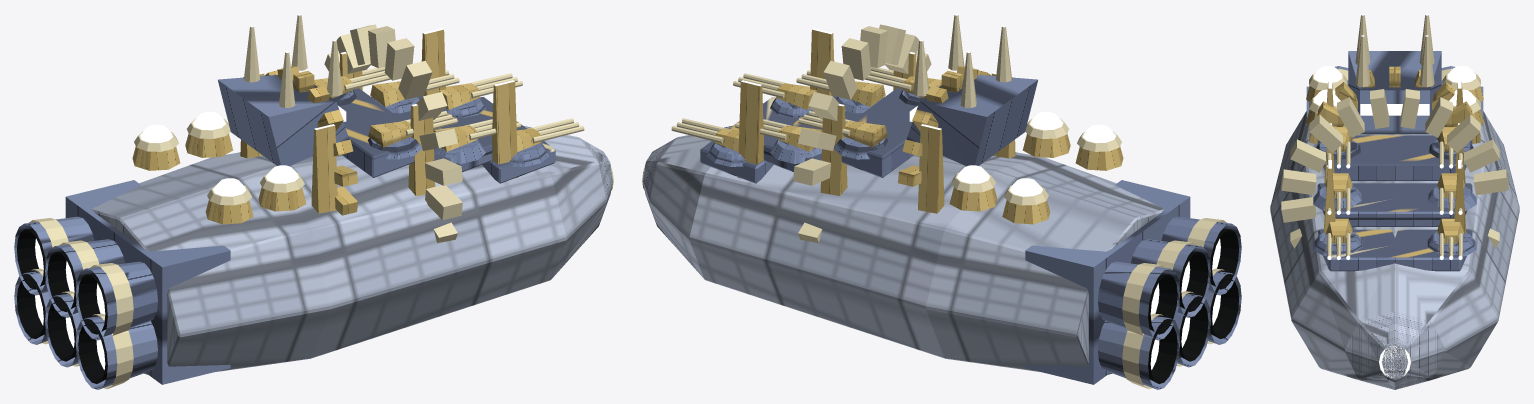
File: dreadnought.glb
3 renders of one model, left to right at view 1: azimuth 30°, elevation 25°; view 2: azimuth 150°, elevation 25°; view 3: azimuth 270°, elevation 25°, orthographic. The views are drawn at different scales.
Parts seen in each view (by area): view 1: hull_body, engine_block, sensor_tower, weapon_turrets, shield_domes; view 2: hull_body, engine_block, sensor_tower, weapon_turrets, shield_domes; view 3: hull_body, weapon_turrets, sensor_tower, shield_domes, engine_block.
Part boxes in pixels (x1,y1,x2,y2): hull_body: (92, 24, 612, 374); engine_block: (14, 180, 230, 389); sensor_tower: (218, 14, 349, 166); weapon_turrets: (314, 67, 613, 190); shield_domes: (132, 111, 306, 224); hull_body: (643, 24, 1163, 374); engine_block: (1025, 180, 1241, 389); sensor_tower: (906, 14, 1037, 166); weapon_turrets: (642, 67, 941, 190); shield_domes: (949, 111, 1123, 224); hull_body: (1270, 66, 1519, 389); weapon_turrets: (1313, 127, 1476, 377); sensor_tower: (1348, 14, 1441, 134); shield_domes: (1306, 66, 1483, 126); engine_block: (1306, 66, 1483, 125).
Bounding box in the file's own units: 80 × 42.63 × 34.81.
1 material, 1 textured.
